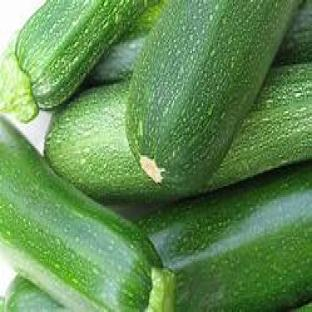Zucchini: (0, 119, 174, 311), (140, 165, 311, 311), (46, 84, 185, 202), (6, 276, 68, 311), (294, 303, 311, 311), (0, 298, 3, 311)
